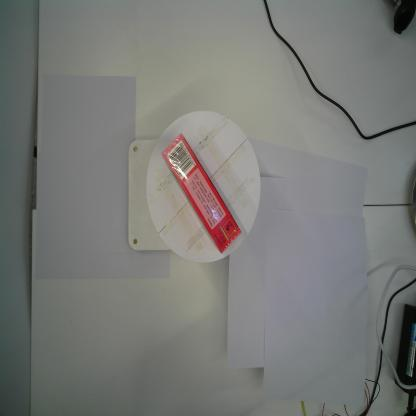Instant Drink: (162, 132, 241, 254)
